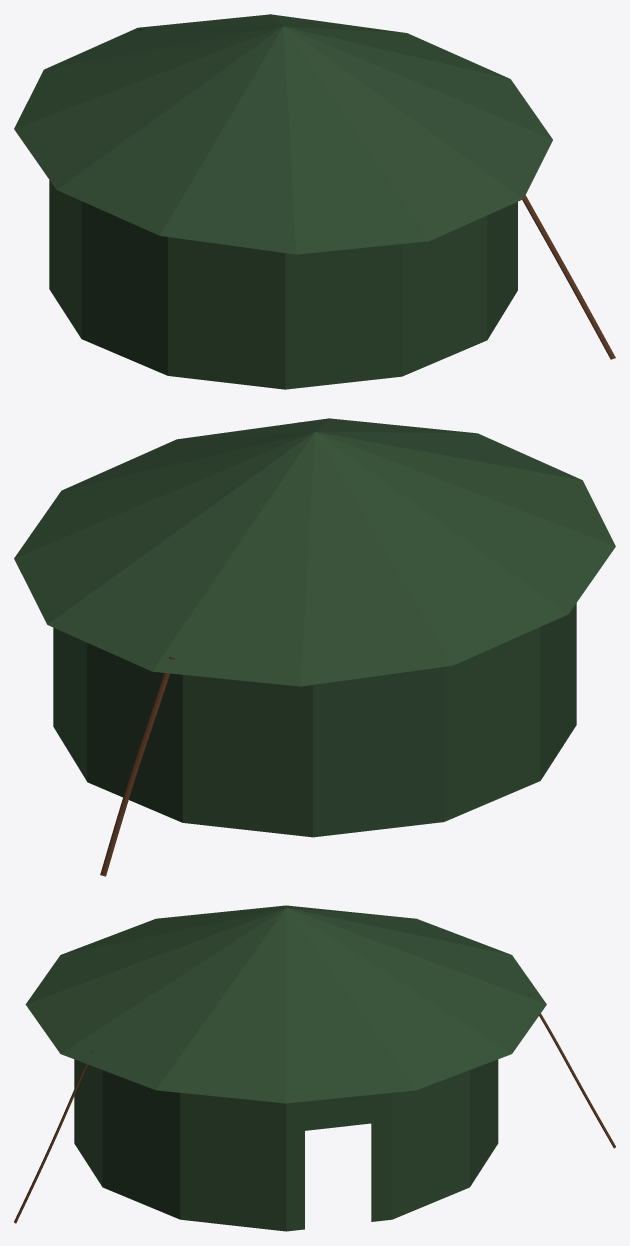
Rendered from Carpa.fbx.
The picture shows the model from 3 angles, top to bottom: view 1: azimuth 30°, elevation 25°; view 2: azimuth 150°, elevation 25°; view 3: azimuth 270°, elevation 25°; orthographic projection. The views are drawn at different scales.
Visible parts, largest first — view 1: Cylinder, BézierCurve; view 2: Cylinder, BézierCurve; view 3: Cylinder, BézierCurve.
Boxes of the visible parts, x1=… form: Cylinder: x1=14, y1=14, x2=552, y2=389; BézierCurve: x1=138, y1=29, x2=615, y2=359; Cylinder: x1=14, y1=418, x2=615, y2=837; BézierCurve: x1=100, y1=422, x2=301, y2=876; Cylinder: x1=25, y1=905, x2=546, y2=1231; BézierCurve: x1=14, y1=994, x2=615, y2=1223.
Size of the model in its own units: 867 by 505 by 1114.
